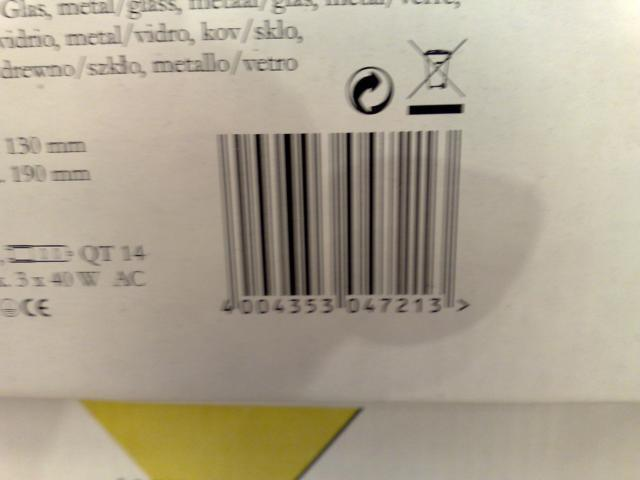Barcode: (195, 120, 476, 329)
